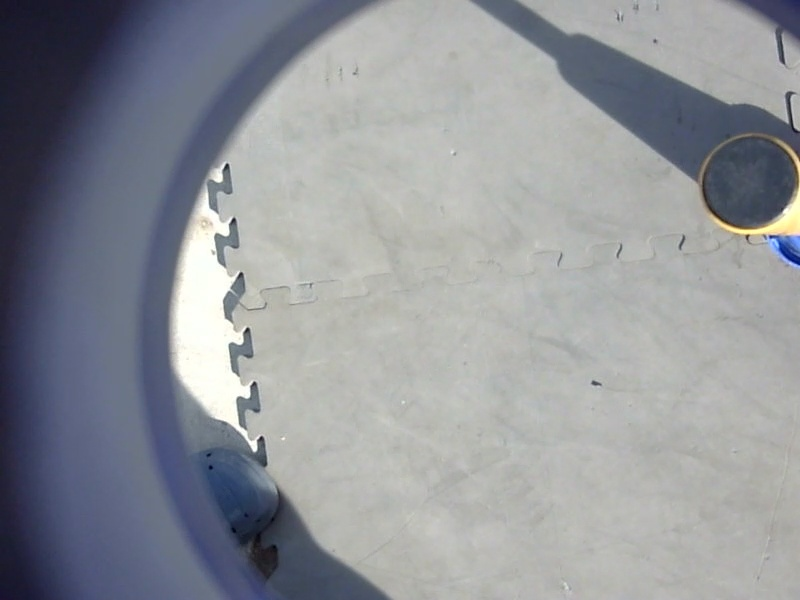tip: (698, 129, 800, 237)
